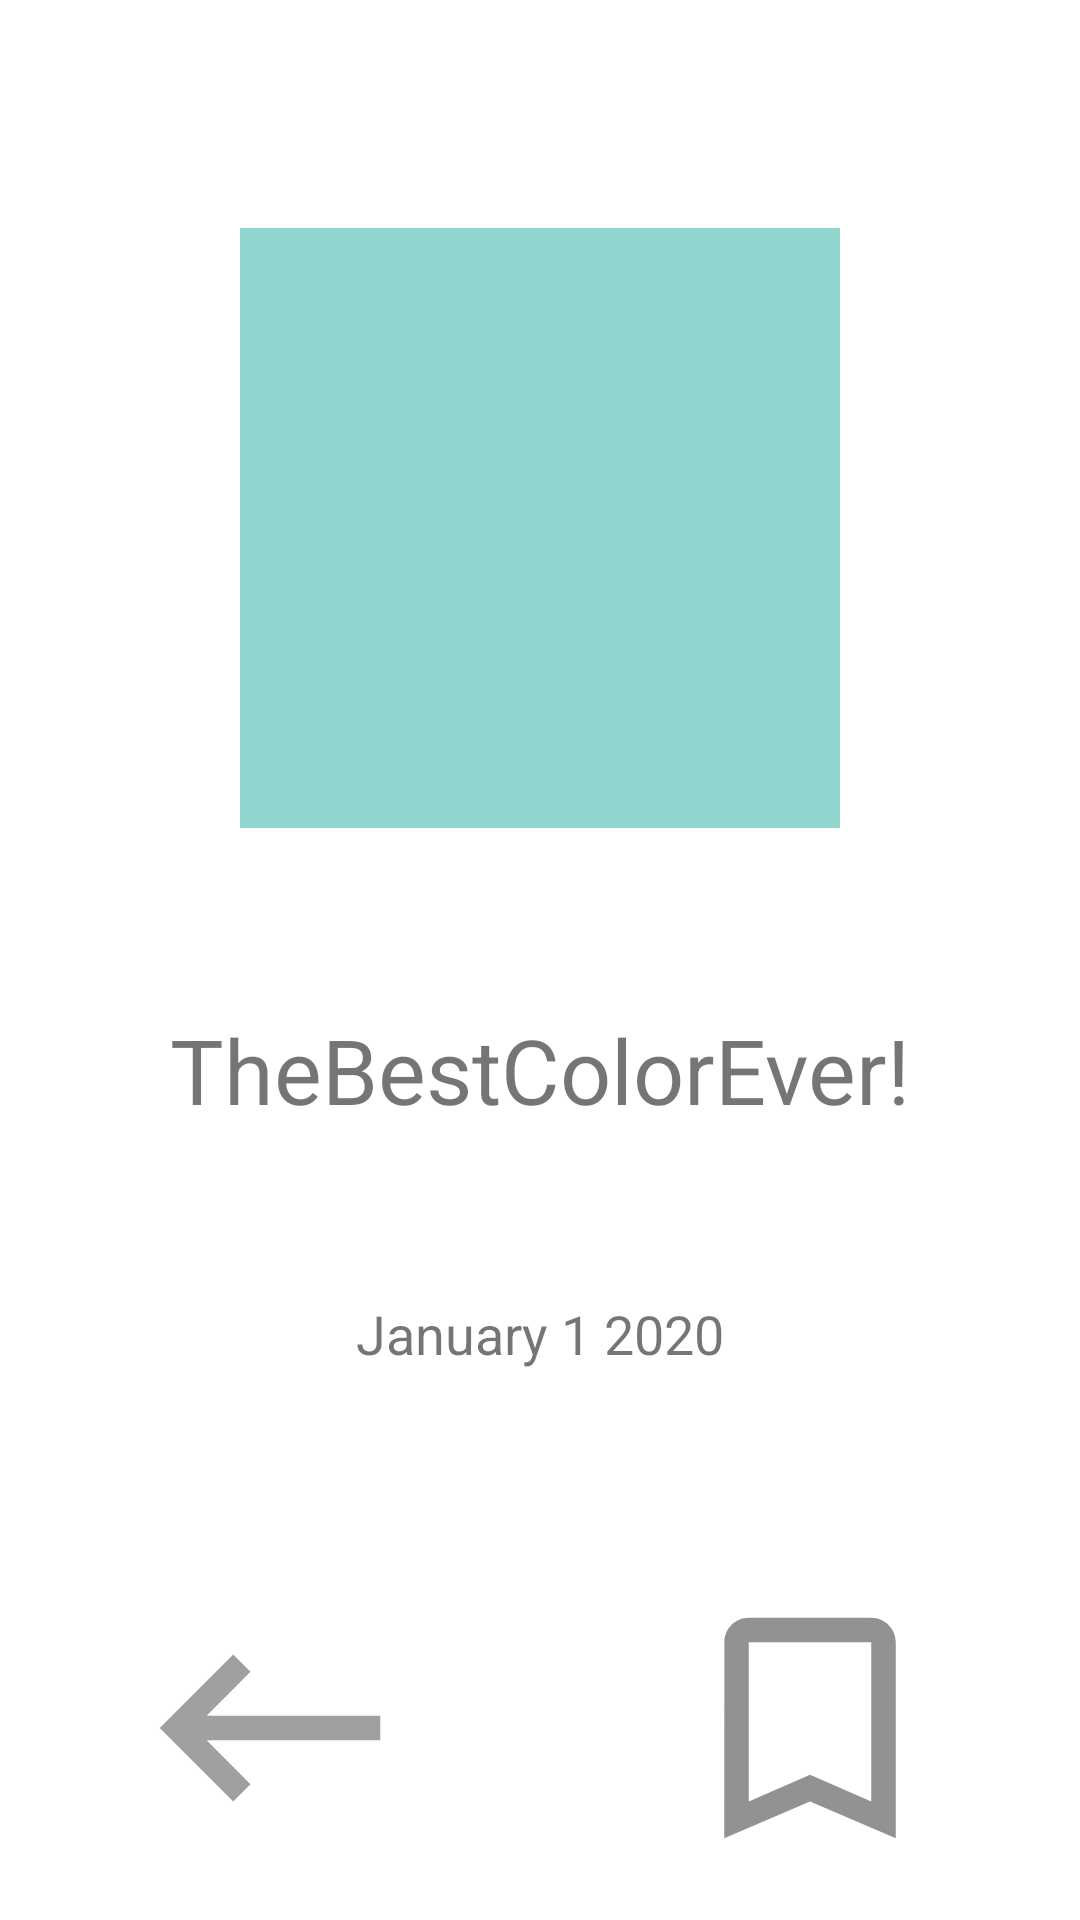

Point at icon controls on the screen. Image size 1080×1920, points as (x,y).
keyboard backspace: (270,1728)
unsaved: (810,1727)
